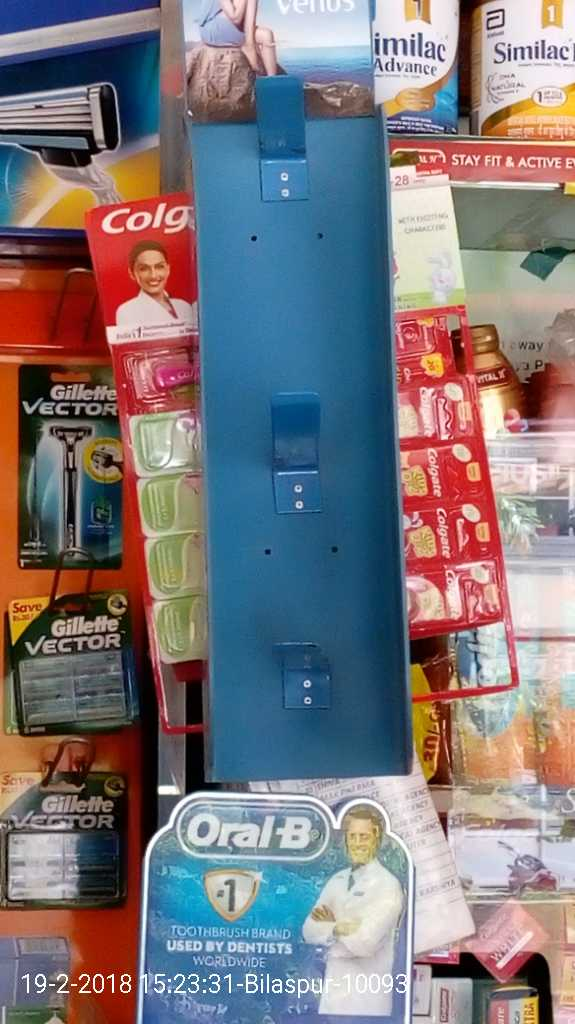gillette: (11, 357, 128, 571), (5, 596, 138, 738), (5, 769, 134, 914)
